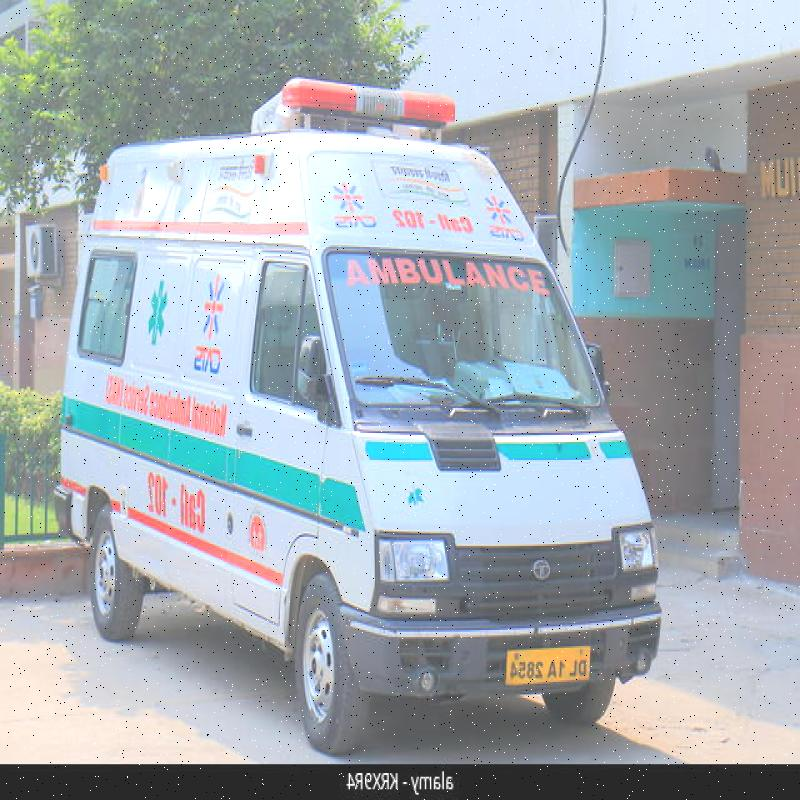ambulance: (76, 94, 634, 664)
